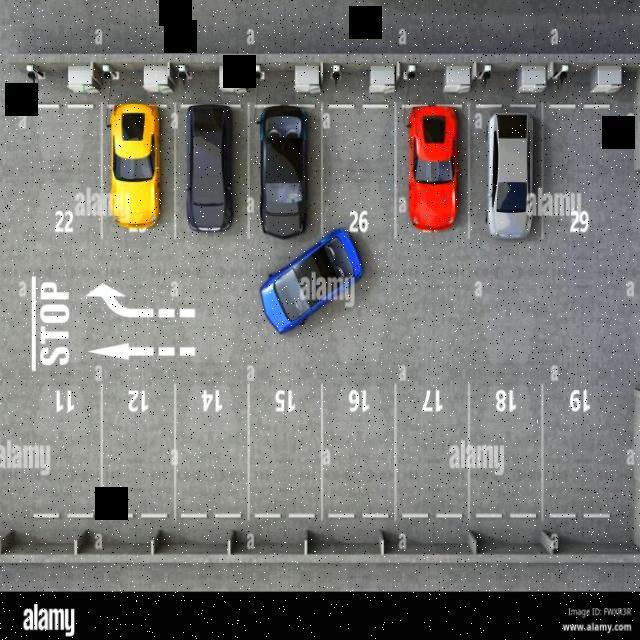car: (392, 100, 474, 247), (171, 98, 253, 242), (98, 102, 180, 245), (468, 100, 546, 243), (246, 99, 323, 242), (323, 242, 324, 244)
free: (17, 378, 103, 520), (318, 101, 398, 242), (172, 382, 252, 522), (319, 386, 399, 524), (392, 382, 472, 520), (539, 100, 613, 245), (33, 101, 106, 246), (245, 384, 322, 520), (100, 386, 178, 520), (468, 385, 546, 517), (540, 387, 615, 522)
